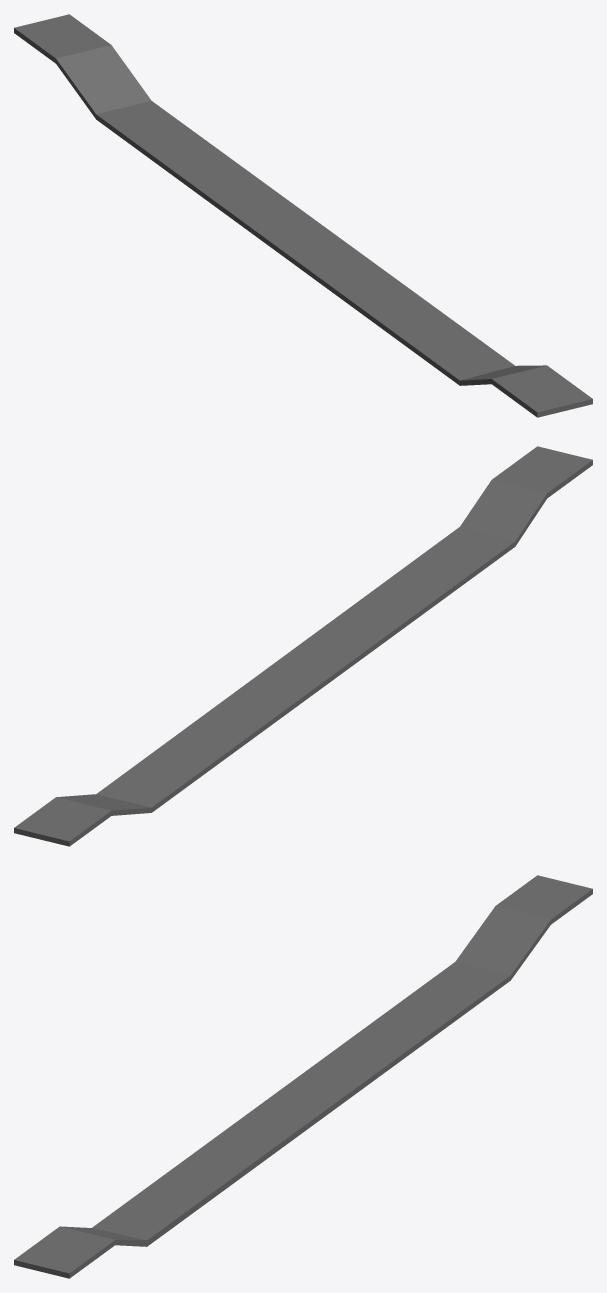
File: Road.fbx
3 views of the same model, one above another, from view 1: azimuth 30°, elevation 25°; view 2: azimuth 150°, elevation 25°; view 3: azimuth 330°, elevation 25° (orthographic).
Visible parts, largest first — view 1: Road2; view 2: Road2; view 3: Road2.
Part boxes in pixels (left/top/right/bottom): Road2: left=14, top=14, right=592, bottom=417; Road2: left=14, top=446, right=592, bottom=846; Road2: left=14, top=875, right=592, bottom=1278.
Bounding box in the file's own units: 19.09 × 10.4 × 312.
